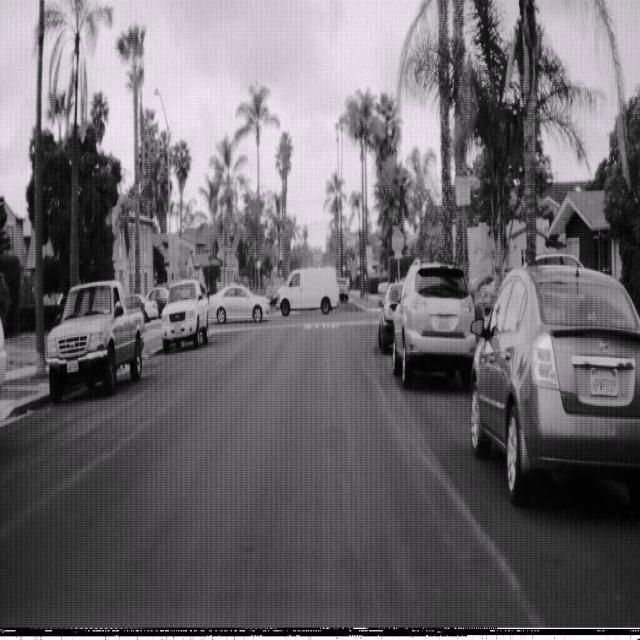stop: (390, 227, 404, 254)
